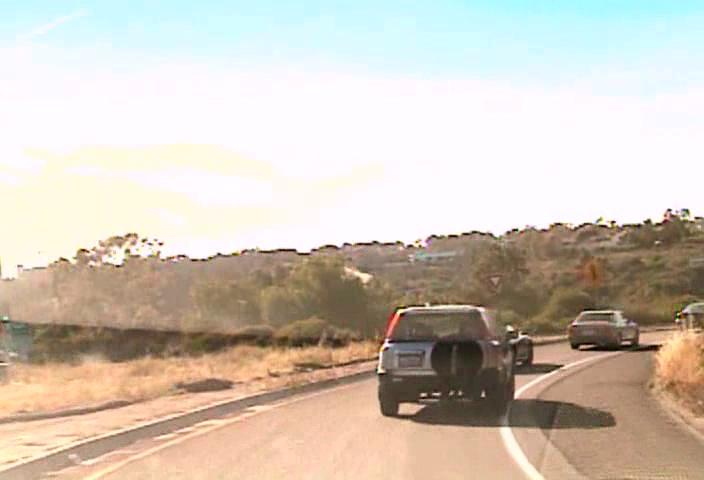yield: (486, 273, 504, 289)
